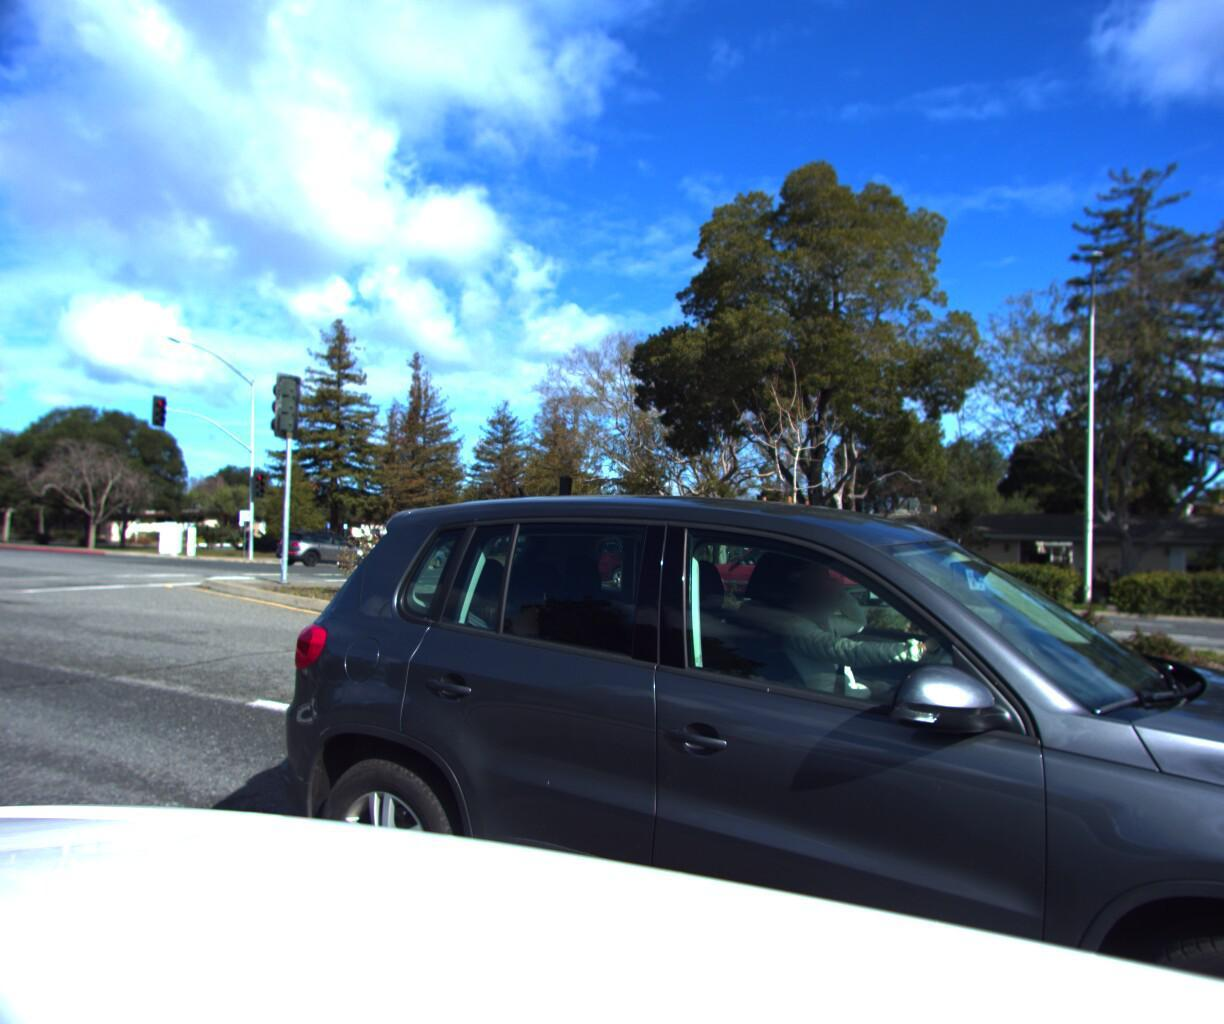car: (266, 439, 1224, 1024), (266, 525, 383, 568), (0, 496, 1, 612)
